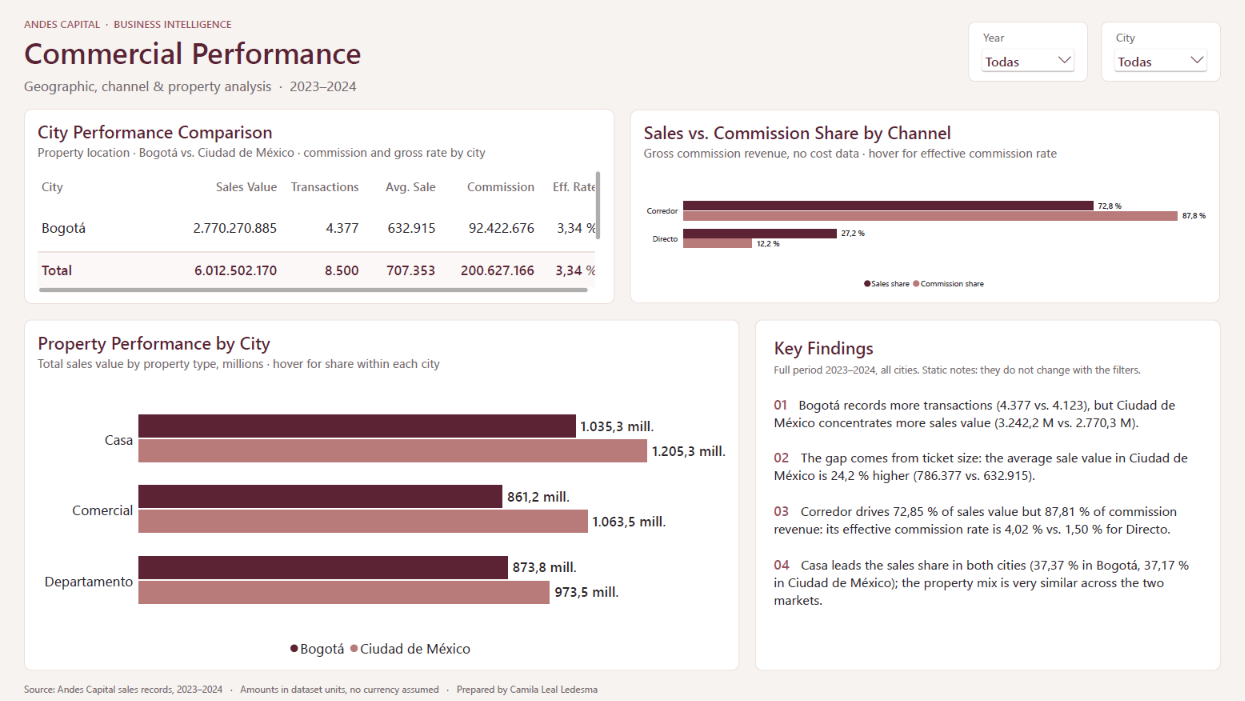

This screenshot's page, from the dashboard's own definition file:
{"tool":"powerbi","page":{"name":"Commercial Performance","canvas":[1920,1080],"ordinal":1},"visuals":[{"type":"textbox","box":[40,22,900,28],"z":0},{"type":"textbox","box":[40,50,1100,66],"z":1000},{"type":"textbox","box":[40,118,1100,36],"z":2000},{"type":"slicer","fields":{"Values":["dim_fecha.Año"]},"box":[1492,34,184,92],"z":3000},{"type":"slicer","fields":{"Values":["dim_properties.ciudad"]},"box":[1696,34,184,92],"z":4000},{"type":"tableEx","title":"City Performance Comparison","fields":{"Values":["dim_properties.ciudad","_Measures.Total Sales Value","_Measures.Total Transactions","_Measures.Average Sale Value","_Measures.Commission Revenue","_Measures.Effective Commission Rate %"]},"box":[40,168,908,300],"z":5000},{"type":"clusteredBarChart","title":"Sales vs. Commission Share by Channel","fields":{"Category":["fact_sales.canal_venta"],"Y":["_Measures.Sales Share by Channel %","_Measures.Commission Share by Channel %"]},"box":[971.7,168.8,907.8,298.4],"z":6000},{"type":"clusteredBarChart","title":"Property Performance by City","fields":{"Category":["dim_properties.tipo_propiedad"],"Series":["dim_properties.ciudad"],"Y":["_Measures.Total Sales Value"]},"box":[40,492,1100,540],"z":7000},{"type":"textbox","box":[1164,492,716,540],"z":8000},{"type":"textbox","box":[40,1044,1840,30],"z":9000}]}

Visuals, with their boxes in screenshot pixels (x1, y1, x2, y2), scaled from the page's 1920x1080 canvas onto the 1245x701 screenshot:
textbox: 26 14 610 32
textbox: 26 32 739 75
textbox: 26 77 739 100
slicer - dim_fecha.Año: 967 22 1087 82
slicer - dim_properties.ciudad: 1100 22 1219 82
"City Performance Comparison" tableEx: 26 109 615 304
"Sales vs. Commission Share by Channel" clusteredBarChart: 630 110 1219 303
"Property Performance by City" clusteredBarChart: 26 319 739 670
textbox: 755 319 1219 670
textbox: 26 678 1219 697
